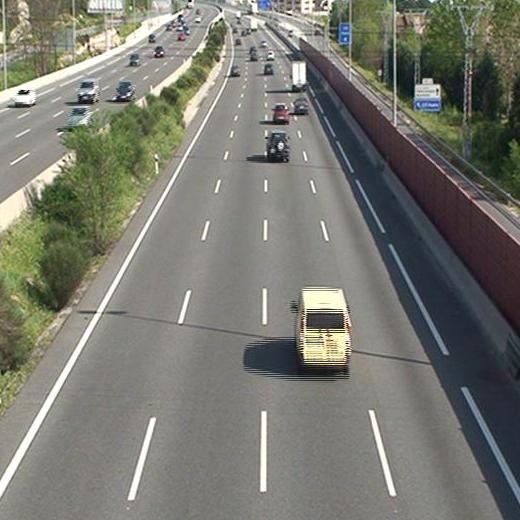car: (267, 132, 289, 160), (274, 104, 289, 123), (295, 98, 309, 113), (263, 63, 274, 74), (230, 63, 239, 75), (265, 51, 274, 60), (250, 52, 258, 61)
small-truck: (291, 60, 306, 90)
van: (295, 288, 351, 369)
